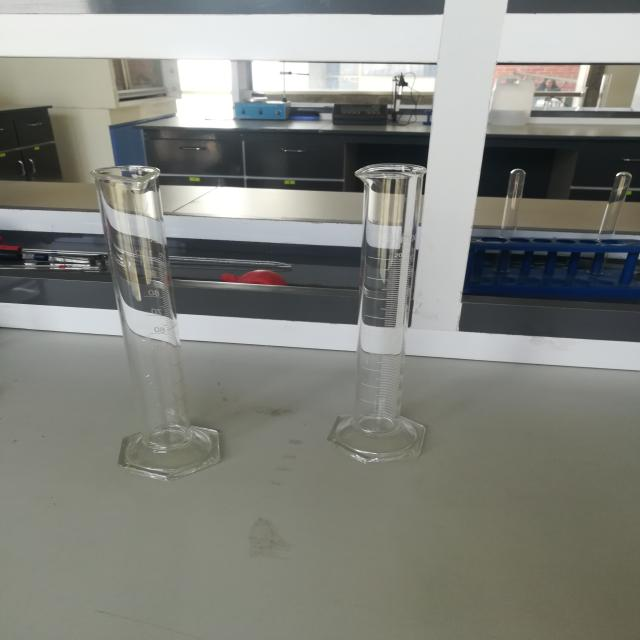Measuring_Cylinder: (50, 147, 244, 502), (306, 142, 459, 494)
